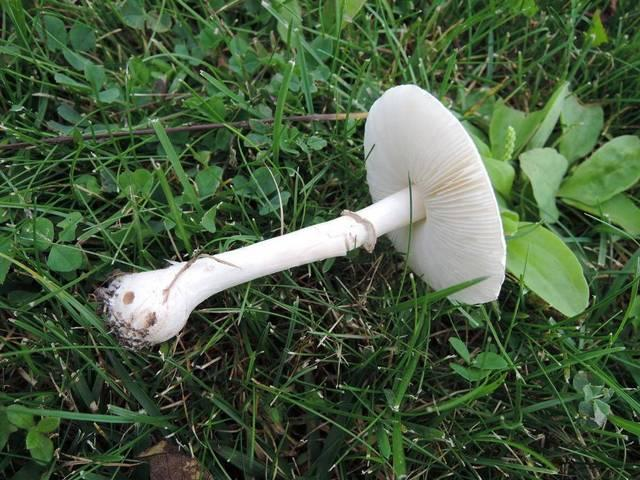Non-edible Mushroom: (95, 82, 508, 350)
